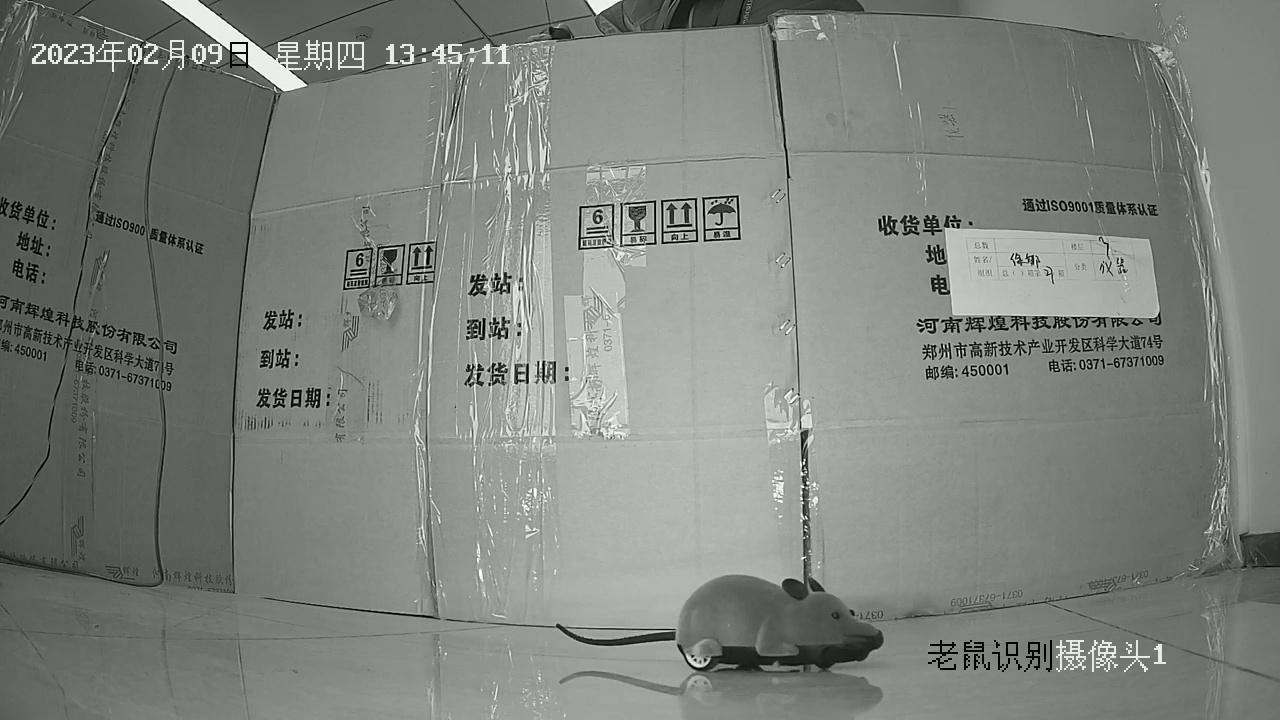rat: (555, 573, 886, 670)
